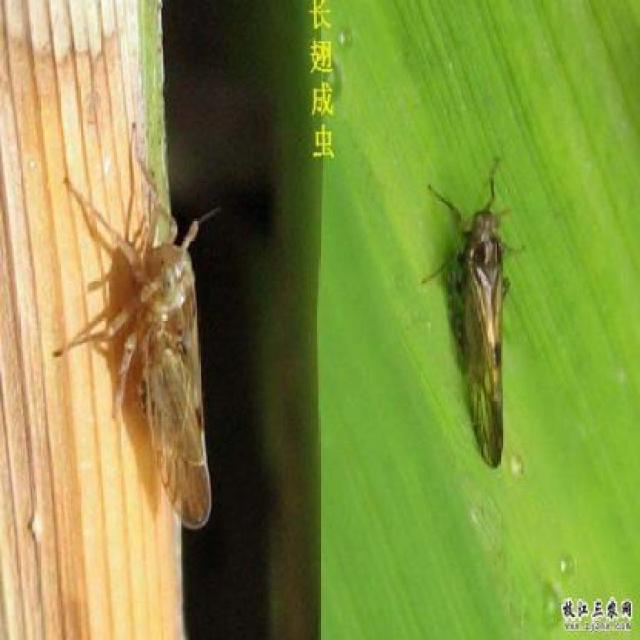brown-planthopper: (129, 235, 214, 534), (451, 202, 511, 468)
